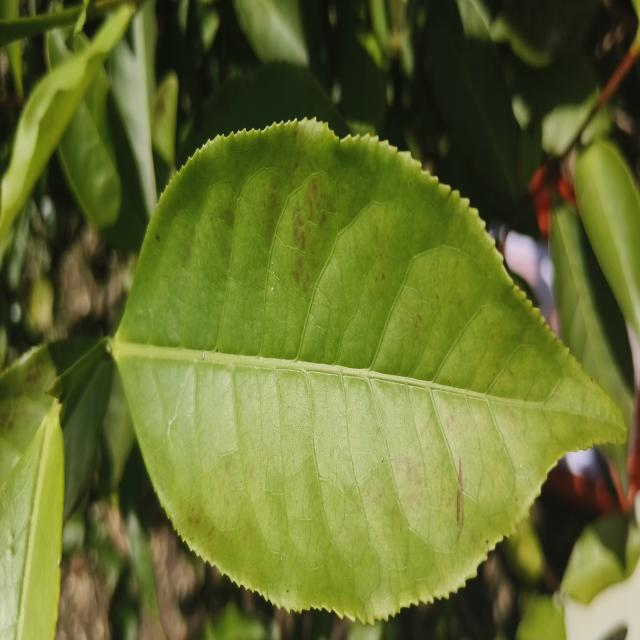Leaf: (110, 119, 626, 623), (0, 7, 133, 242), (0, 338, 114, 519), (426, 0, 520, 199), (550, 205, 633, 430), (177, 63, 350, 168), (58, 68, 148, 250), (0, 405, 63, 640), (574, 140, 640, 337), (111, 0, 157, 218), (489, 0, 597, 67), (562, 515, 640, 603), (233, 0, 309, 66), (151, 71, 178, 197)
